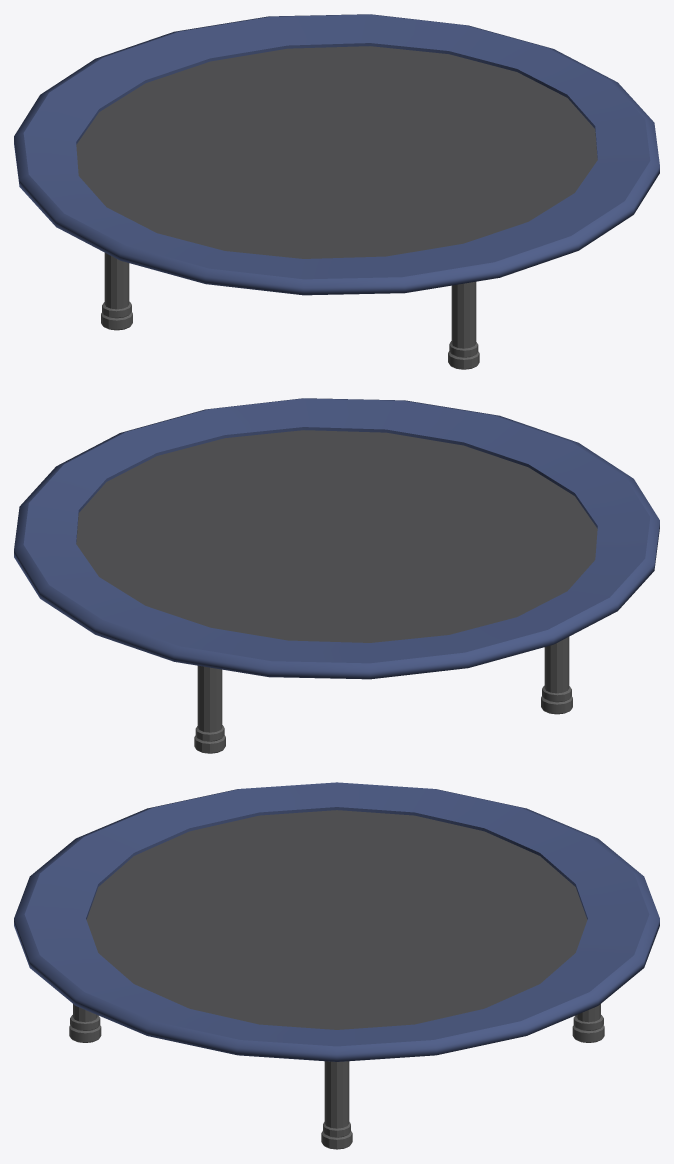
File: bouung boung test unity.fbx
3 views of the same model, one above another, from view 1: azimuth 30°, elevation 25°; view 2: azimuth 150°, elevation 25°; view 3: azimuth 270°, elevation 25° (orthographic).
Parts seen in each view (by area): view 1: pCylinder3; view 2: pCylinder3; view 3: pCylinder3.
Part boxes in pixels (x1,y1,x2,y2): pCylinder3: (14, 14, 659, 369); pCylinder3: (14, 398, 659, 753); pCylinder3: (14, 782, 659, 1149).
Size of the model in its own units: 4.37 by 0.9198 by 4.39.
